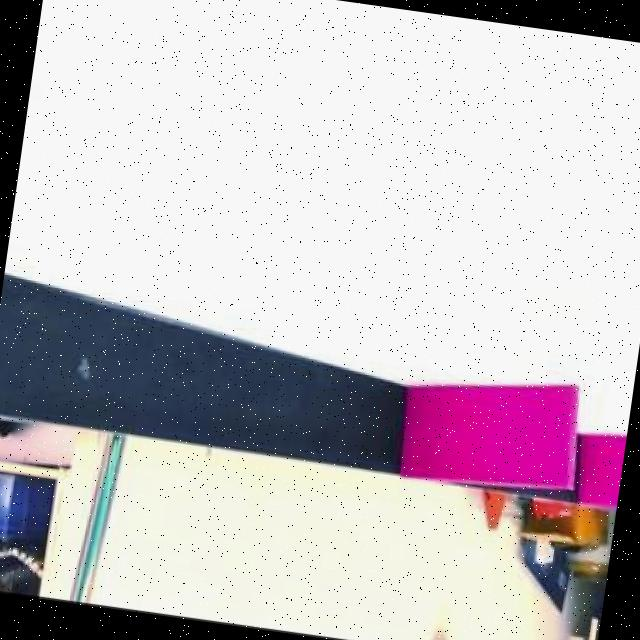xparking: (397, 386, 578, 493), (576, 437, 626, 510)
